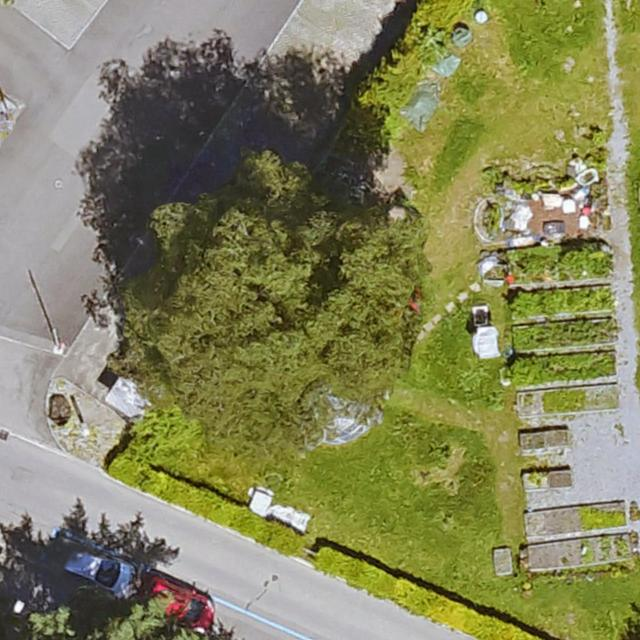tree: (104, 179, 430, 460), (18, 584, 194, 640)
